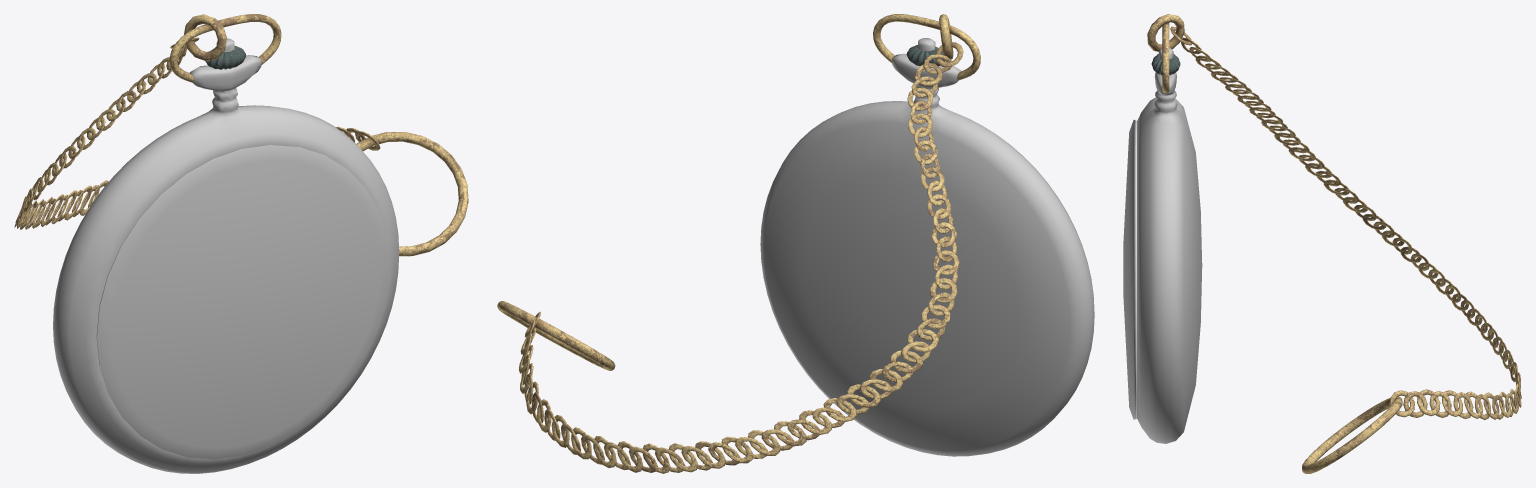
3 renders of one model, left to right at view 1: azimuth 30°, elevation 25°; view 2: azimuth 150°, elevation 25°; view 3: azimuth 270°, elevation 25°, orthographic. The views are drawn at different scales.
Visible parts, largest first — view 1: Glass, Body, Chain, Button; view 2: Body, Chain; view 3: Body, Chain, Glass.
Boxes of the visible parts, x1,y1,x2,y2 form: Glass: [96, 145, 389, 459]; Body: [53, 38, 399, 473]; Chain: [14, 14, 468, 256]; Button: [205, 46, 245, 69]; Body: [760, 38, 1094, 456]; Chain: [497, 14, 980, 473]; Body: [1137, 47, 1202, 443]; Chain: [1147, 14, 1521, 473]; Glass: [1123, 120, 1136, 419].
Bounding box in the file's own units: 0.1313 × 0.1126 × 0.1004.
